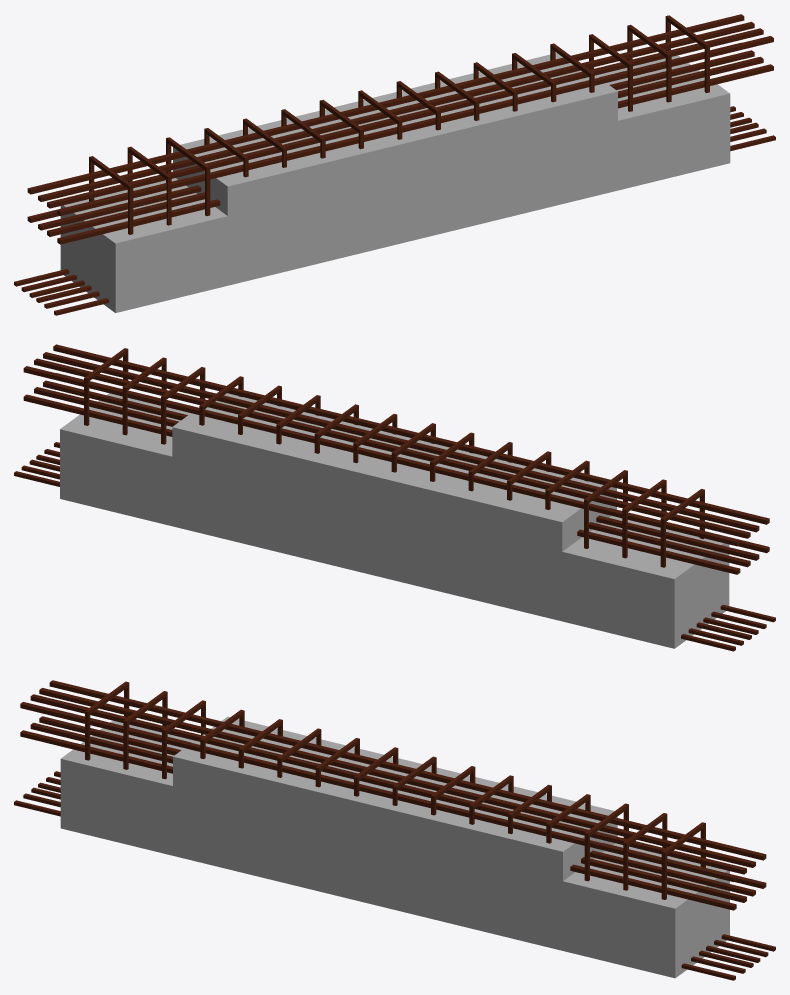
Rendered from PCa_beam_A.glb.
3 renders of one model, top to bottom at view 1: azimuth 30°, elevation 25°; view 2: azimuth 150°, elevation 25°; view 3: azimuth 330°, elevation 25°, orthographic.
Parts seen in each view (by area): view 1: Cube.011; view 2: Cube.011; view 3: Cube.011.
Part boxes in pixels (x1,y1,x2,y2): Cube.011: (14, 14, 775, 315); Cube.011: (14, 344, 775, 651); Cube.011: (14, 680, 775, 980).
Bounding box in the file's own units: 7.29 × 1.14 × 0.9607.
